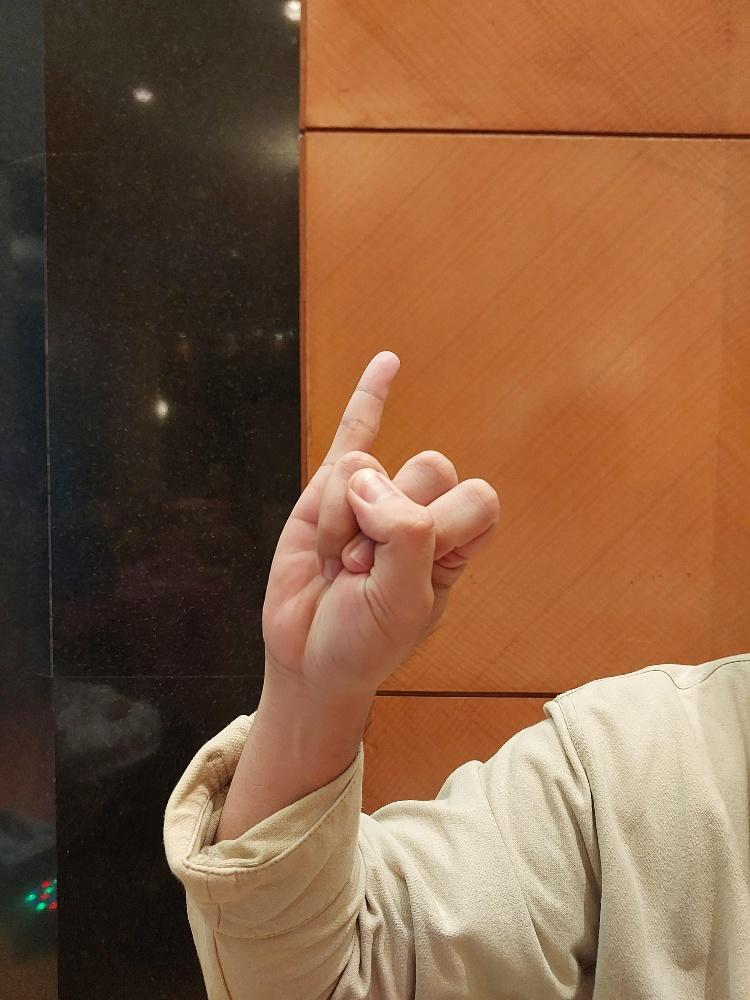i: (260, 348, 501, 684)
